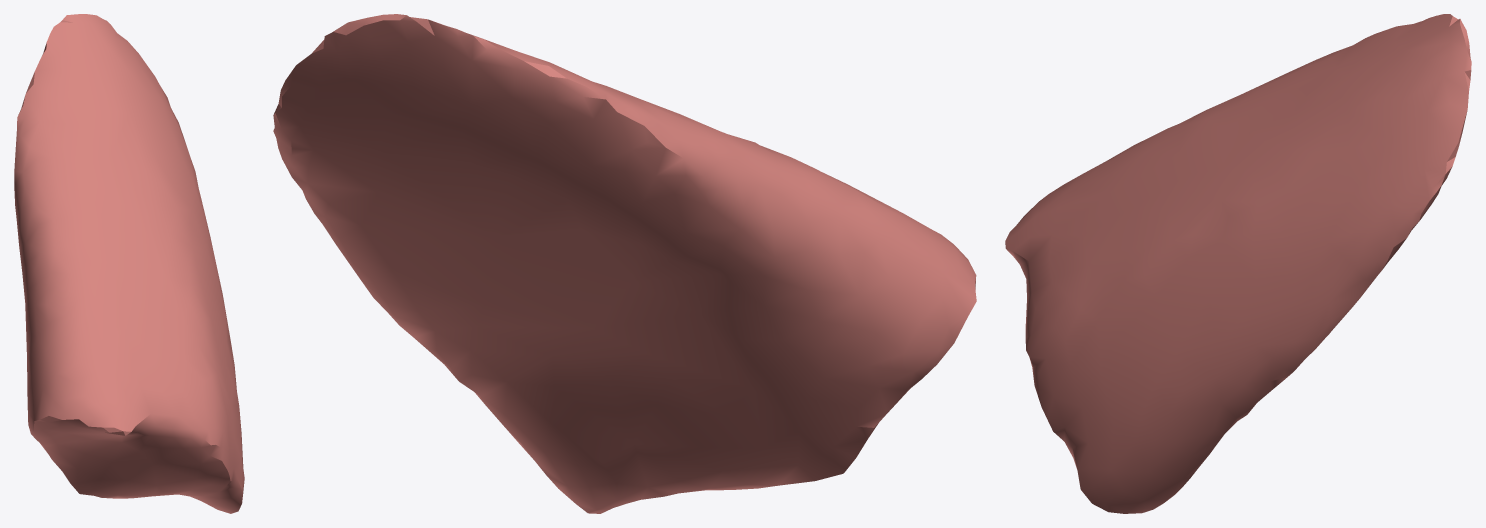
File: fma38556-n_mm1816.glb
The picture shows the model from 3 angles, left to right: view 1: azimuth 30°, elevation 25°; view 2: azimuth 150°, elevation 25°; view 3: azimuth 270°, elevation 25°; orthographic projection. The views are drawn at different scales.
Visible parts, largest first — view 1: FMA38556-N_MM1816; view 2: FMA38556-N_MM1816; view 3: FMA38556-N_MM1816.
Part boxes in pixels (left/top/right/bottom): FMA38556-N_MM1816: left=14, top=14, right=244, bottom=513; FMA38556-N_MM1816: left=273, top=14, right=976, bottom=513; FMA38556-N_MM1816: left=1005, top=14, right=1471, bottom=513.
Bounding box in the file's own units: 0.00966 × 0.0132 × 0.0115.
